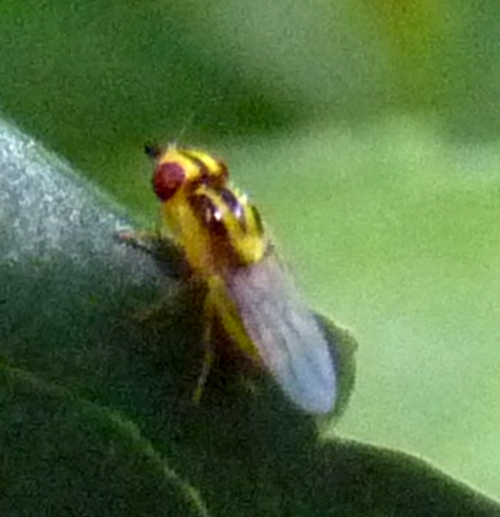Chloropidae: (127, 106, 342, 430)
